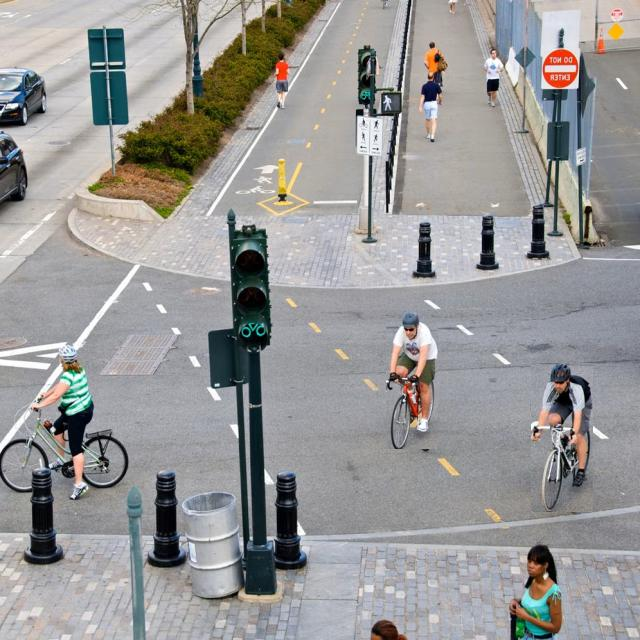bicycle: (0, 344, 129, 499), (531, 363, 592, 512), (386, 313, 438, 449)
